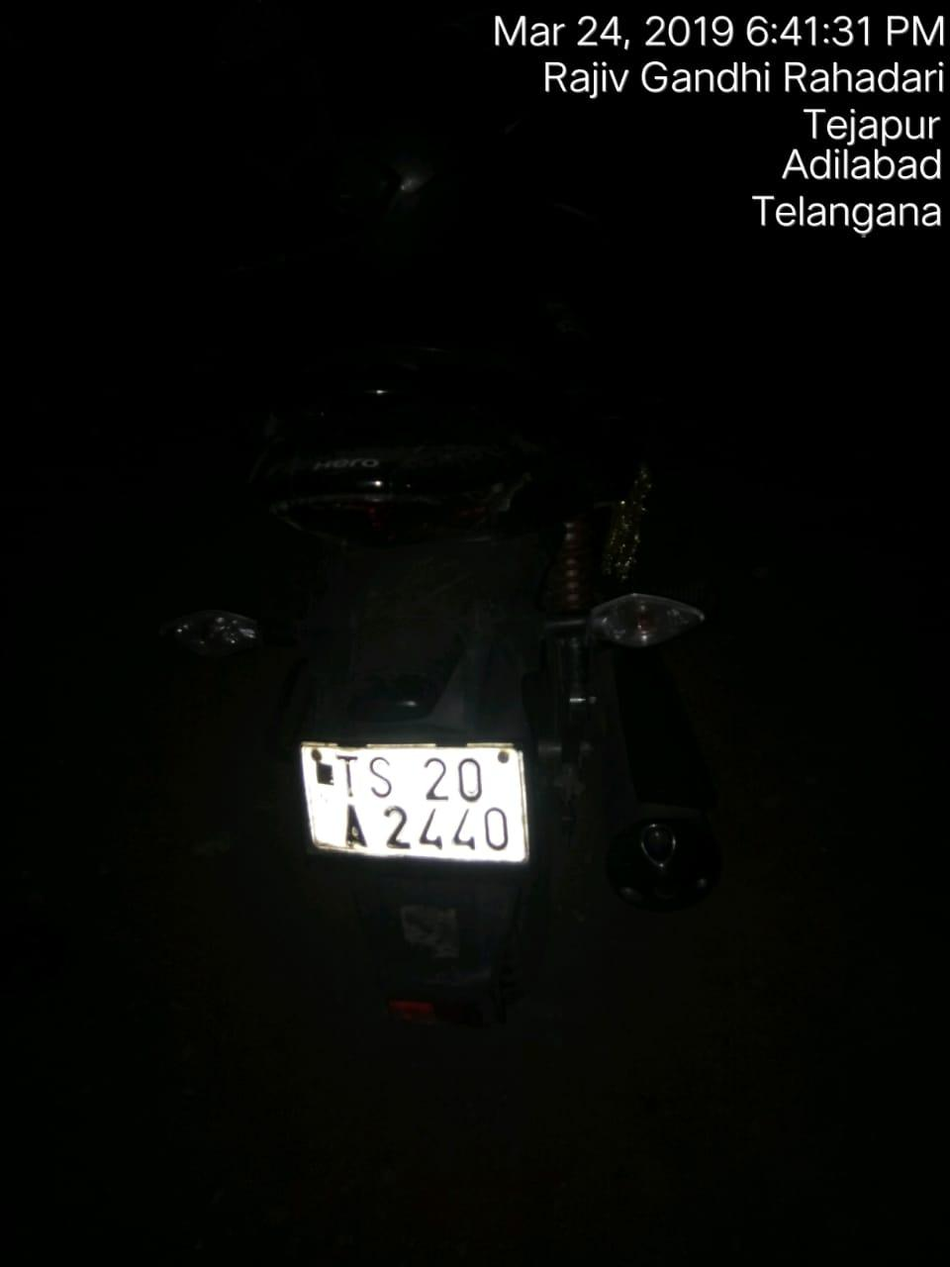plate: (296, 732, 534, 881)
